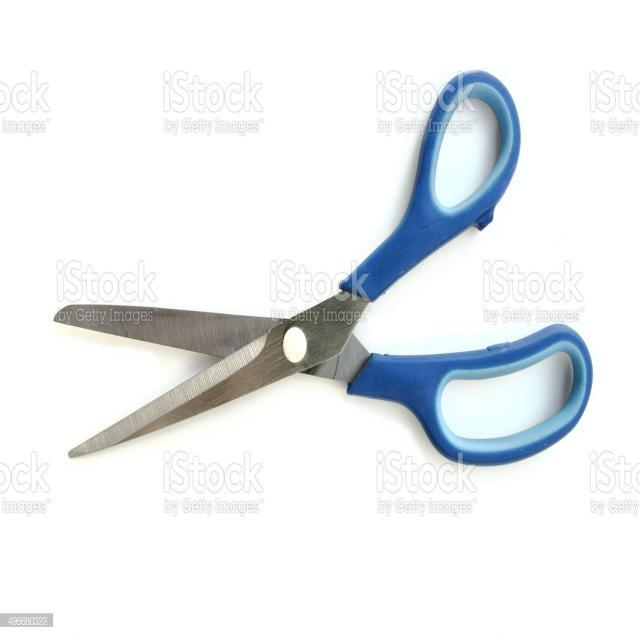scissor: (52, 72, 592, 470)
